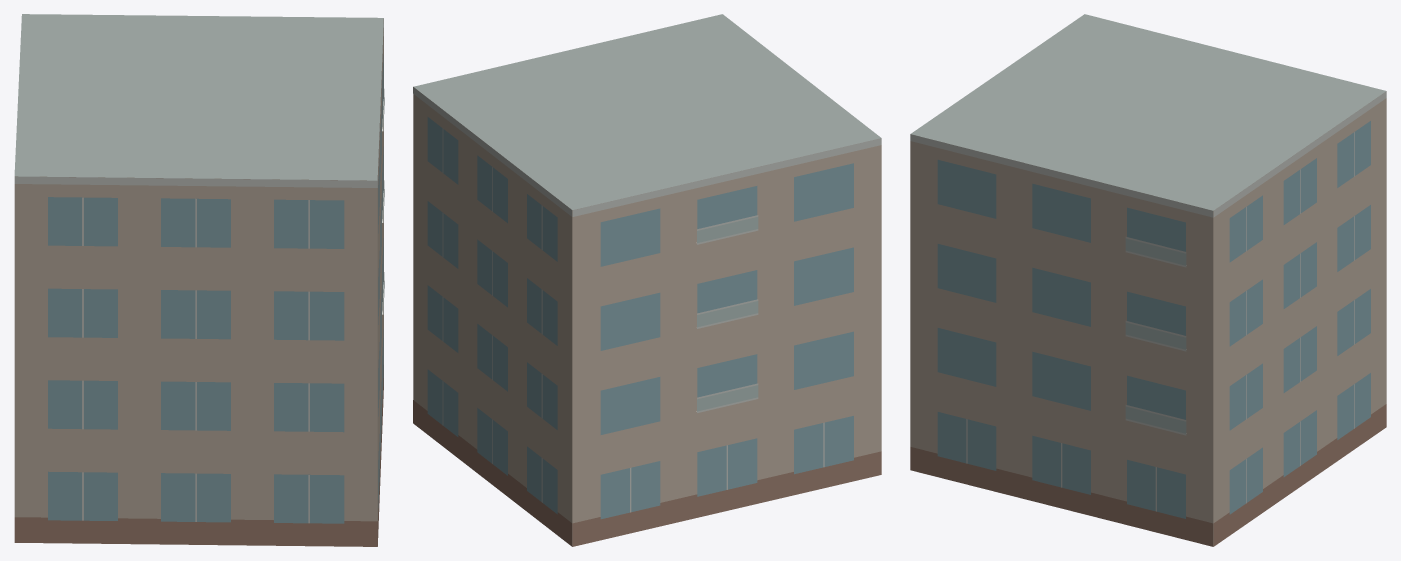
File: survey-upis-32868942.glb
The picture shows the model from 3 angles, left to right: view 1: azimuth 30°, elevation 25°; view 2: azimuth 150°, elevation 25°; view 3: azimuth 270°, elevation 25°; orthographic projection. The views are drawn at different scales.
Parts seen in each view (by area): view 1: survey-upis-32868942.tmp; view 2: survey-upis-32868942.tmp; view 3: survey-upis-32868942.tmp.
Boxes of the visible parts, <box> form: survey-upis-32868942.tmp: <box>14,14,384,546</box>; survey-upis-32868942.tmp: <box>413,14,881,546</box>; survey-upis-32868942.tmp: <box>910,14,1386,546</box>.
Size of the model in its own units: 14.89 by 11.85 by 15.23.
